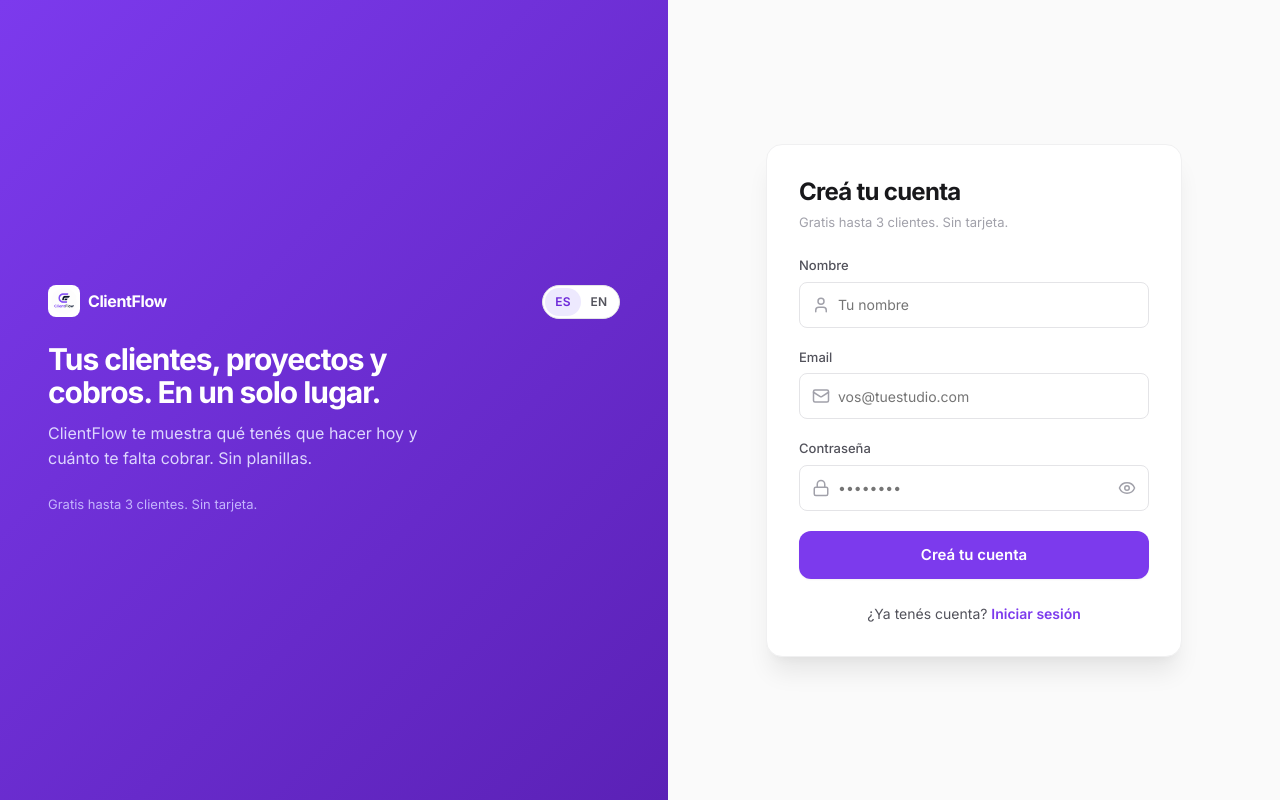
Register › re-sends the confirmation email for that address from the notice and confirms it
Step 1. Type "Tita" into the field labelled "Nombre" → (987,304), box [838,282,1136,326]
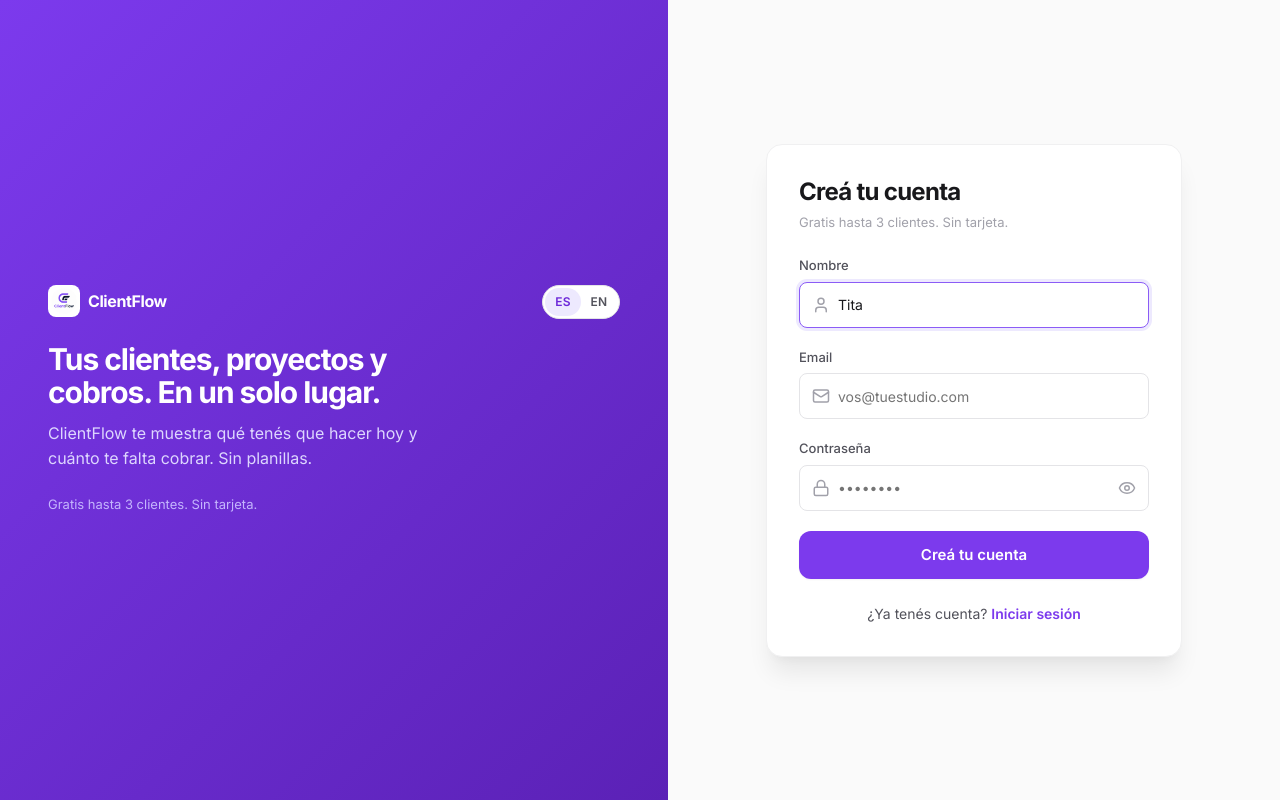
Step 2. Type "tita@estudio.com" into the field labelled "Email" → (987,396), box [838,374,1136,418]
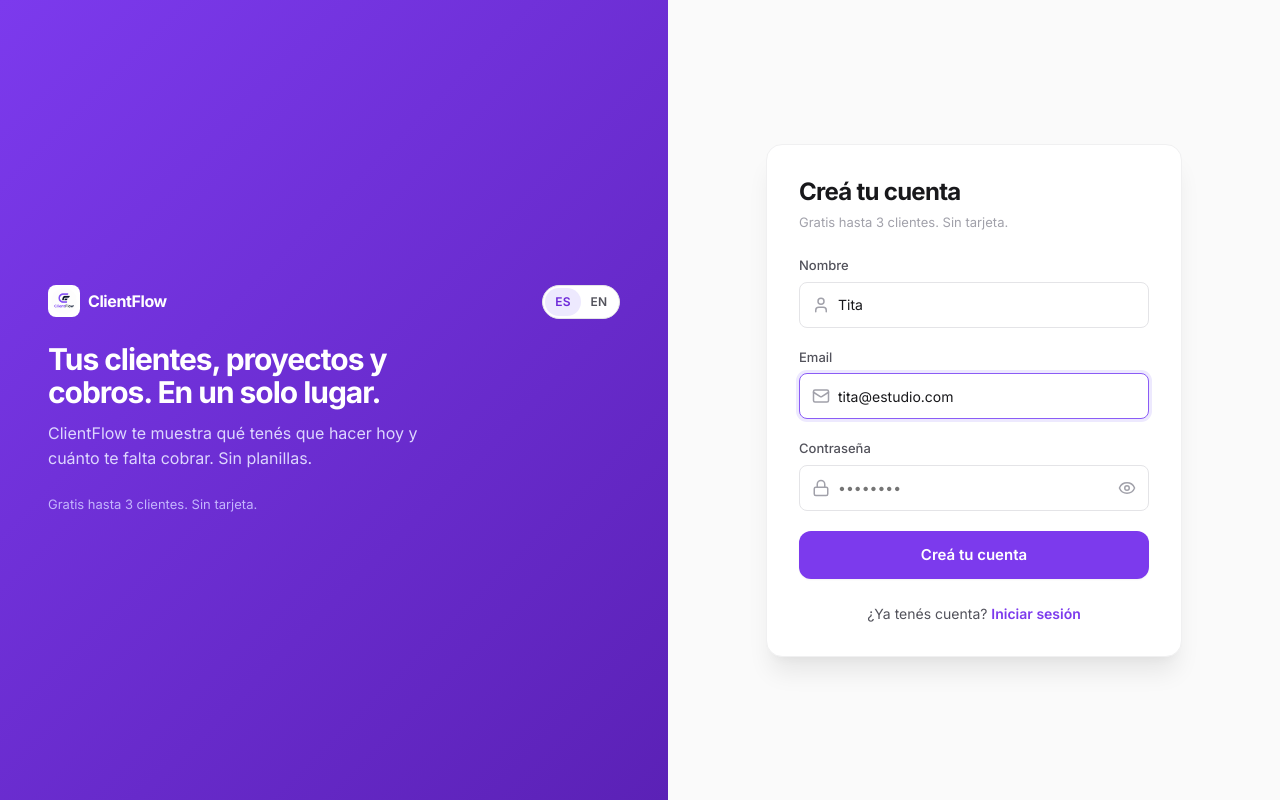
Step 3. Type "supersecreta" into the password field labelled "Contraseña" → (974,488), box [838,466,1110,510]
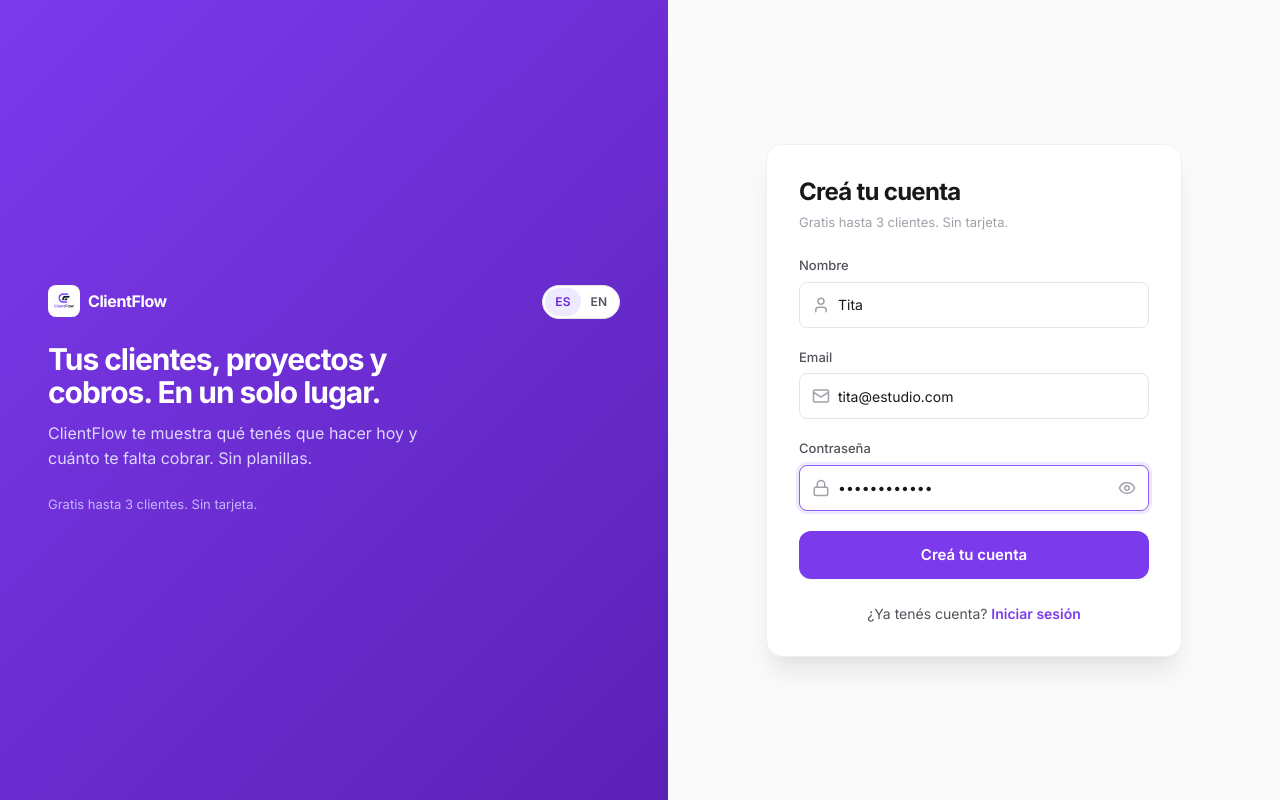
Step 4. Click the button "Creá tu cuenta" → (974,554), box [799,530,1149,578]
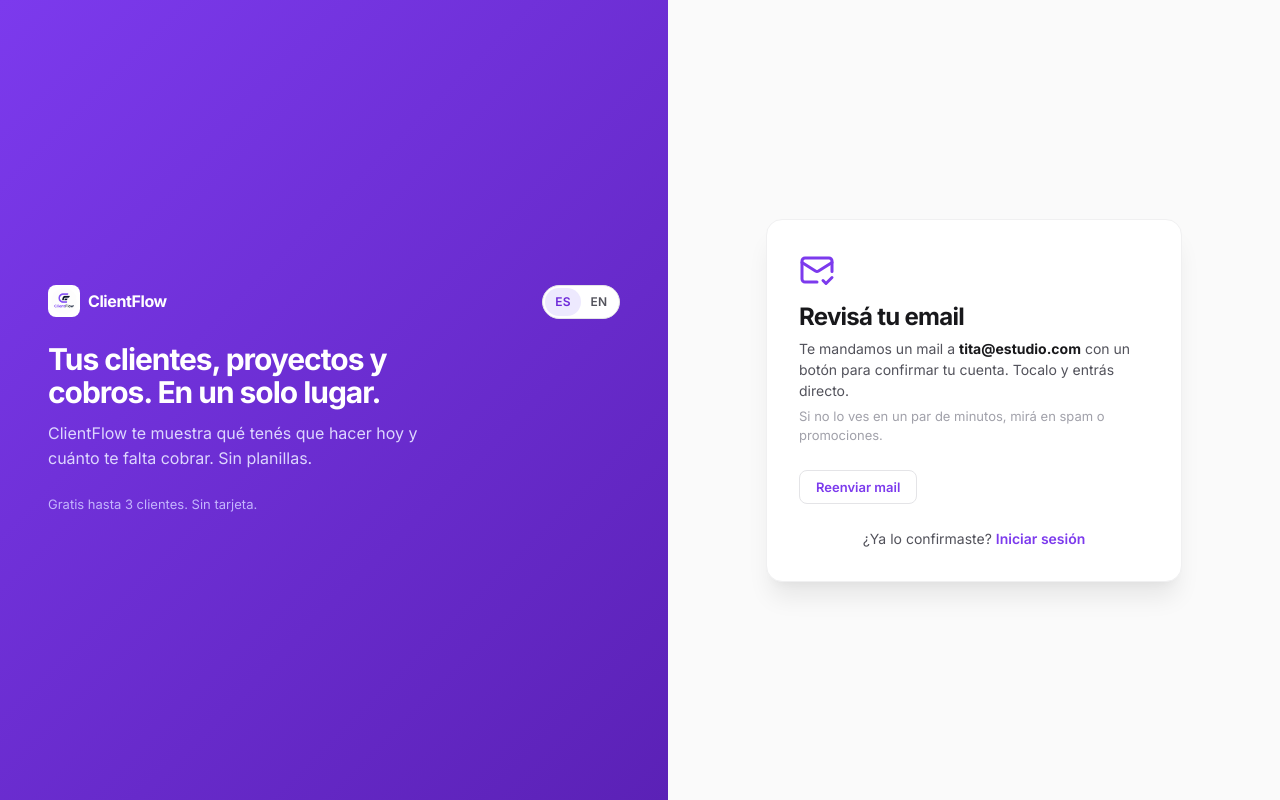
expect the heading "Revisá tu email" is shown: met, box [799,302,964,330]
Step 5. Click the button "Reenviar mail" → (858,486), box [799,470,917,504]
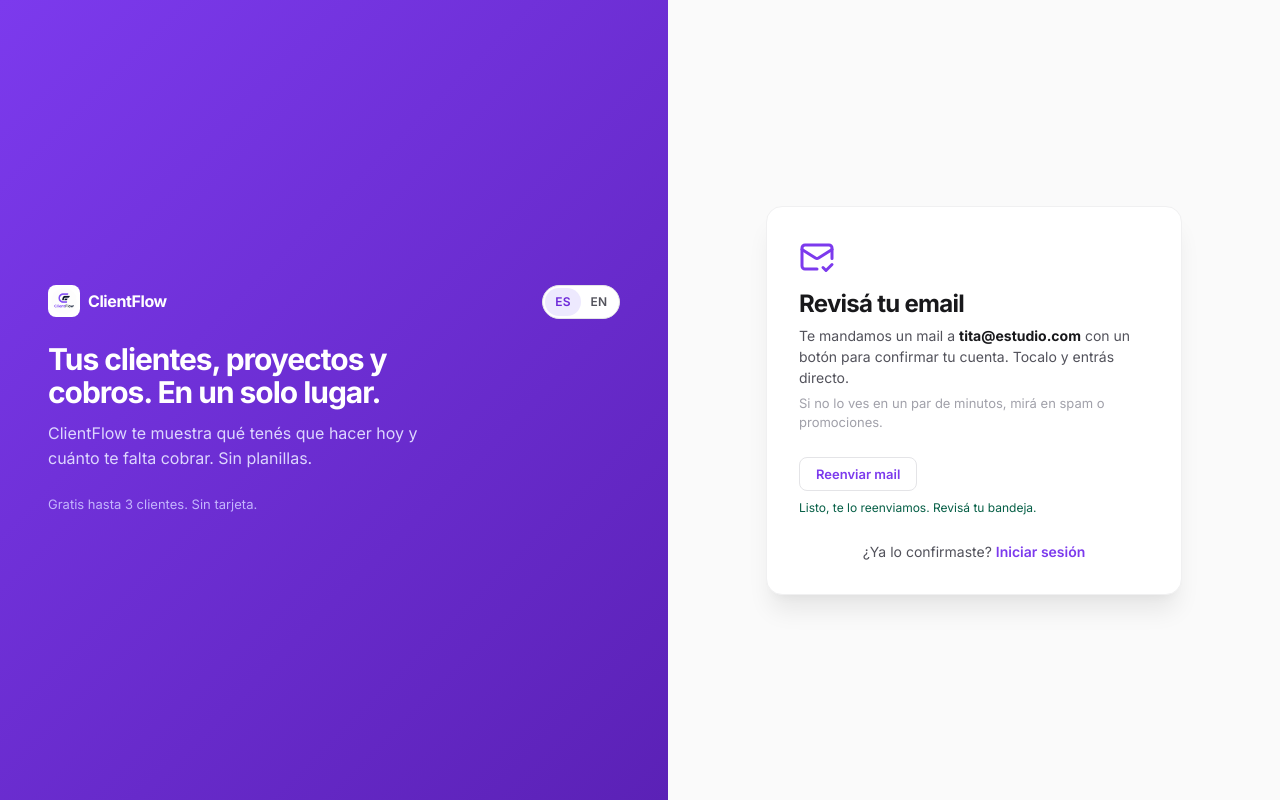
expect the text "Listo, te lo reenviamos. Revisá tu bandeja." is shown: met, box [799,498,1036,516]
